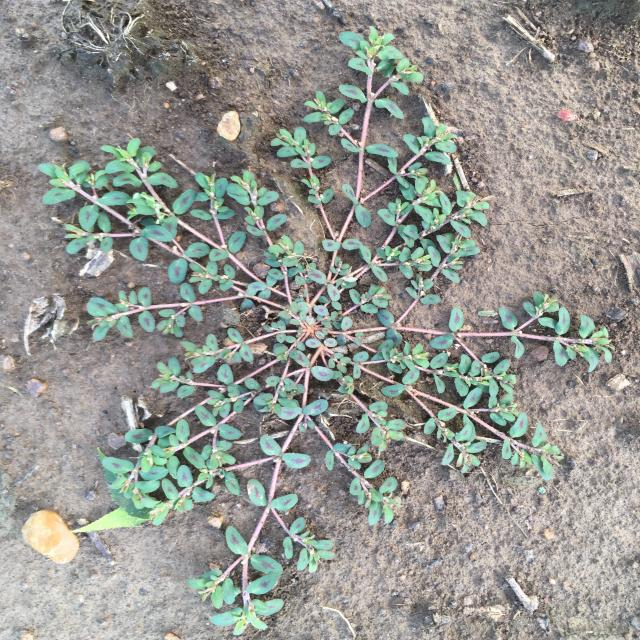SpottedSpurge: (38, 25, 616, 636)
